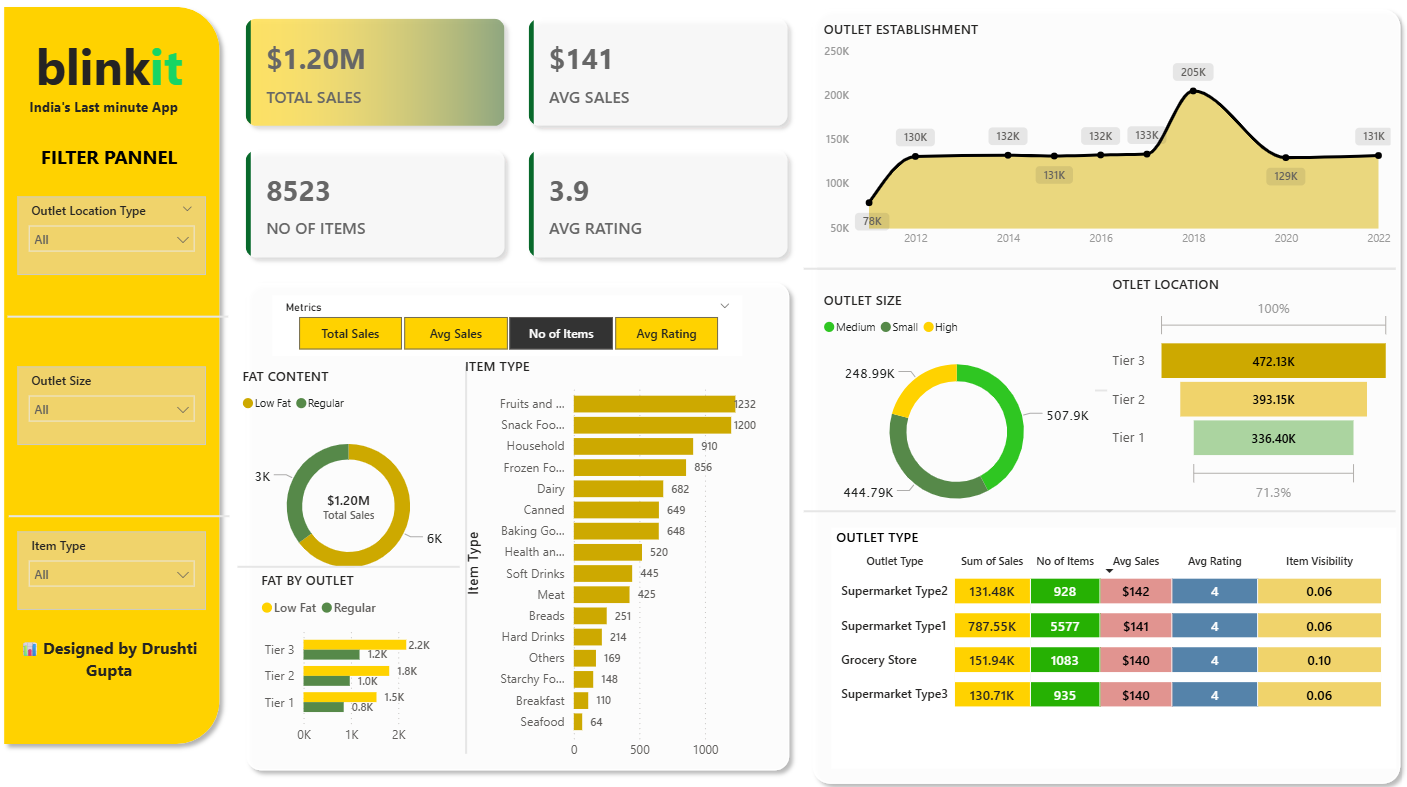

The page's visual inventory and layout, read from the dashboard file:
{"tool":"powerbi","page":{"name":"Page 1","canvas":[1400,800],"ordinal":0},"visuals":[{"type":"shape","box":[0,13.5,231.1,747.4],"z":0},{"type":"textbox","box":[12,108.1,190.6,43.5],"z":1000},{"type":"textbox","box":[12,43.5,201.1,90.1],"z":2000},{"type":"cardVisual","fields":{"Data":["BlinkIT Grocery Data.Total Sales","BlinkIT Grocery Data.Avg Sales","BlinkIT Grocery Data.No of Items","BlinkIT Grocery Data.Avg Rating"]},"box":[231.9,17.4,571,270.8],"z":3000},{"type":"shape","box":[239.9,286.9,555,500],"z":4000},{"type":"donutChart","title":"FAT CONTENT","fields":{"Y":["BlinkIT Grocery Data.Total Sales"],"Category":["BlinkIT Grocery Data.Item Fat Content"]},"box":[239.9,378,219.8,230.6],"z":5000},{"type":"slicer","fields":{"Values":["Metrics.Metrics"]},"box":[274.8,308.3,465.1,60.3],"z":6000},{"type":"cardVisual","fields":{"Data":["BlinkIT Grocery Data.Total Sales"]},"box":[305.6,482.6,89.8,68.4],"z":7000},{"type":"clusteredBarChart","title":"FAT BY OUTLET","fields":{"Y":["BlinkIT Grocery Data.Total Sales"],"Category":["BlinkIT Grocery Data.Outlet Location Type"],"Series":["BlinkIT Grocery Data.Item Fat Content"]},"box":[258.7,580.4,183.6,181],"z":8000},{"type":"shape","box":[239.9,572.4,219.8,8],"z":9000},{"type":"shape","box":[459.8,378,12.1,383.4],"z":10000},{"type":"barChart","title":"ITEM TYPE","fields":{"Y":["BlinkIT Grocery Data.Total Sales"],"Category":["BlinkIT Grocery Data.Item Type"]},"box":[459.8,368.6,311,407.5],"z":11000},{"type":"shape","box":[800.3,16.1,599.2,784.2],"z":12000},{"type":"lineChart","title":"OUTLET ESTABLISHMENT","fields":{"Y":["Sum(BlinkIT Grocery Data.Sales)"],"Category":["BlinkIT Grocery Data.Outlet Establishment Year"]},"box":[815,34.9,571,234.6],"z":13000},{"type":"shape","box":[800.3,517.4,585.8,9.4],"z":14000},{"type":"donutChart","title":"OUTLET SIZE","fields":{"Y":["Sum(BlinkIT Grocery Data.Sales)"],"Category":["BlinkIT Grocery Data.Outlet Size"]},"box":[815,303,273.5,234.6],"z":15000},{"type":"shape","box":[1088.5,286.9,12.1,230.6],"z":16000},{"type":"funnel","title":"OTLET LOCATION","fields":{"Y":["Sum(BlinkIT Grocery Data.Sales)"],"Category":["BlinkIT Grocery Data.Outlet Location Type"]},"box":[1100.5,286.9,285.5,230.6],"z":17000},{"type":"shape","box":[813.7,277.5,572.4,9.4],"z":18000},{"type":"pivotTable","title":"OUTLET TYPE","fields":{"Rows":["BlinkIT Grocery Data.Outlet Type"],"Values":["Sum(BlinkIT Grocery Data.Sales)","BlinkIT Grocery Data.No of Items","BlinkIT Grocery Data.Avg Sales","BlinkIT Grocery Data.Avg Rating","Avg(BlinkIT Grocery Data.Item Visibility)"]},"box":[827.1,537.5,559,238.6],"z":19000},{"type":"slicer","fields":{"Values":["BlinkIT Grocery Data.Outlet Location Type"]},"box":[22.8,210.5,186.3,77.7],"z":20000},{"type":"shape","box":[800.3,277.5,585.8,9.4],"z":21000},{"type":"slicer","fields":{"Values":["BlinkIT Grocery Data.Outlet Size"]},"box":[22.8,378,186.3,77.7],"z":22000},{"type":"slicer","fields":{"Values":["BlinkIT Grocery Data.Item Type"]},"box":[22.8,541.6,186.3,77.7],"z":23000},{"type":"textbox","box":[12.1,152.8,201.1,38.9],"z":24000},{"type":"shape","box":[13.4,514.7,218.5,24.1],"z":25000},{"type":"shape","box":[12.1,319,218.5,20.1],"z":26000},{"type":"textbox","box":[12.1,640.8,201.1,91.2],"z":27000}]}

Visuals, with their boxes in screenshot pixels (x1, y1, x2, y2), scaled from the page's 1400x800 canvas onto the 1407x787 screenshot:
shape: BBox(0, 13, 232, 749)
textbox: BBox(12, 106, 204, 149)
textbox: BBox(12, 43, 214, 131)
cardVisual - BlinkIT Grocery Data.Total Sales x BlinkIT Grocery Data.Avg Sales: BBox(233, 17, 807, 284)
shape: BBox(241, 282, 799, 774)
"FAT CONTENT" donutChart: BBox(241, 372, 462, 599)
slicer - Metrics.Metrics: BBox(276, 303, 744, 363)
cardVisual - BlinkIT Grocery Data.Total Sales: BBox(307, 475, 397, 542)
"FAT BY OUTLET" clusteredBarChart: BBox(260, 571, 445, 749)
shape: BBox(241, 563, 462, 571)
shape: BBox(462, 372, 474, 749)
"ITEM TYPE" barChart: BBox(462, 363, 775, 763)
shape: BBox(804, 16, 1406, 786)
"OUTLET ESTABLISHMENT" lineChart: BBox(819, 34, 1393, 265)
shape: BBox(804, 509, 1393, 518)
"OUTLET SIZE" donutChart: BBox(819, 298, 1094, 529)
shape: BBox(1094, 282, 1106, 509)
"OTLET LOCATION" funnel: BBox(1106, 282, 1393, 509)
shape: BBox(818, 273, 1393, 282)
"OUTLET TYPE" pivotTable: BBox(831, 529, 1393, 763)
slicer - BlinkIT Grocery Data.Outlet Location Type: BBox(23, 207, 210, 284)
shape: BBox(804, 273, 1393, 282)
slicer - BlinkIT Grocery Data.Outlet Size: BBox(23, 372, 210, 448)
slicer - BlinkIT Grocery Data.Item Type: BBox(23, 533, 210, 609)
textbox: BBox(12, 150, 214, 189)
shape: BBox(13, 506, 233, 530)
shape: BBox(12, 314, 232, 334)
textbox: BBox(12, 630, 214, 720)
